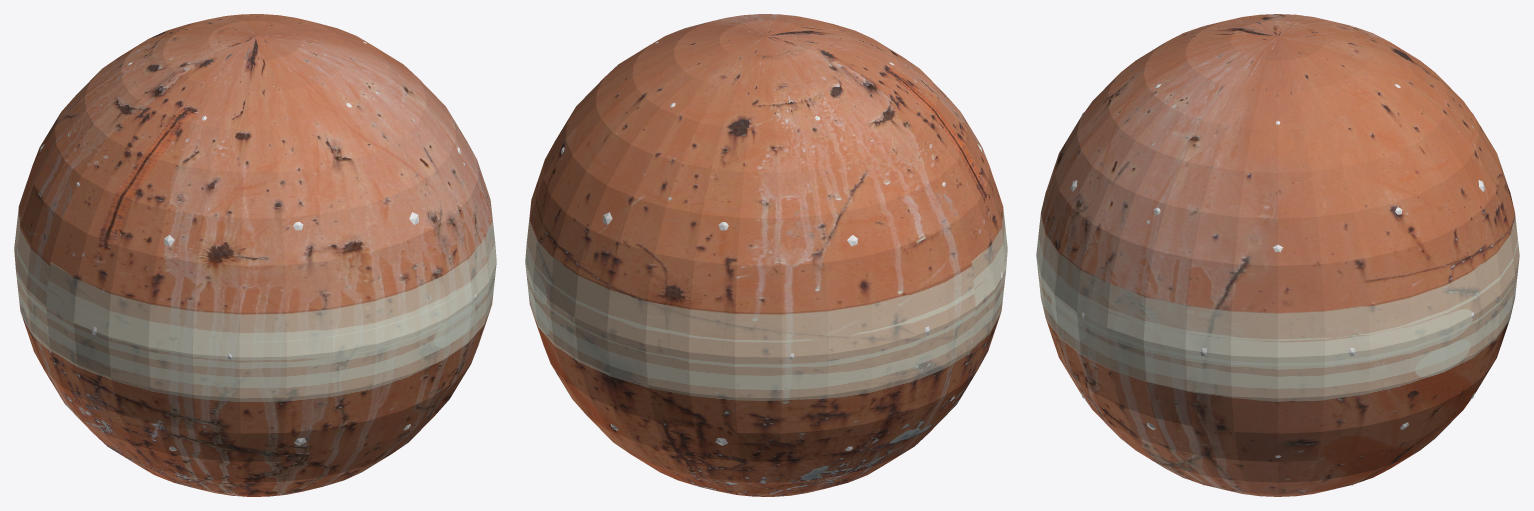
The model's file is buoy.glb.
The picture shows the model from 3 angles, left to right: view 1: azimuth 30°, elevation 25°; view 2: azimuth 150°, elevation 25°; view 3: azimuth 270°, elevation 25°; orthographic projection.
Parts seen in each view (by area): view 1: Sphere, Icosphere; view 2: Sphere, Icosphere; view 3: Sphere, Icosphere.
Part boxes in pixels (x1,y1,x2,y2): Sphere: [14, 14, 496, 496]; Icosphere: [19, 41, 476, 494]; Sphere: [525, 14, 1007, 496]; Icosphere: [545, 41, 1002, 494]; Sphere: [1036, 14, 1519, 496]; Icosphere: [1070, 25, 1485, 485].
Bounding box in the file's own units: 2 × 2 × 2.
Materials: 1 (1 with a texture image).
